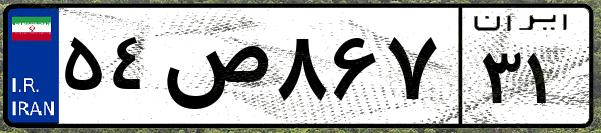1: (525, 38, 570, 115)
3: (475, 38, 525, 113)
4: (110, 28, 158, 98)
5: (57, 26, 110, 100)
6: (330, 28, 385, 110)
7: (385, 28, 445, 110)
8: (270, 28, 330, 110)
ص: (158, 20, 270, 120)
